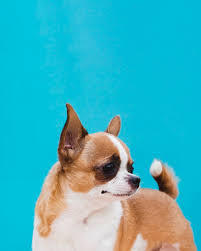chihuahua: (17, 83, 201, 250)
